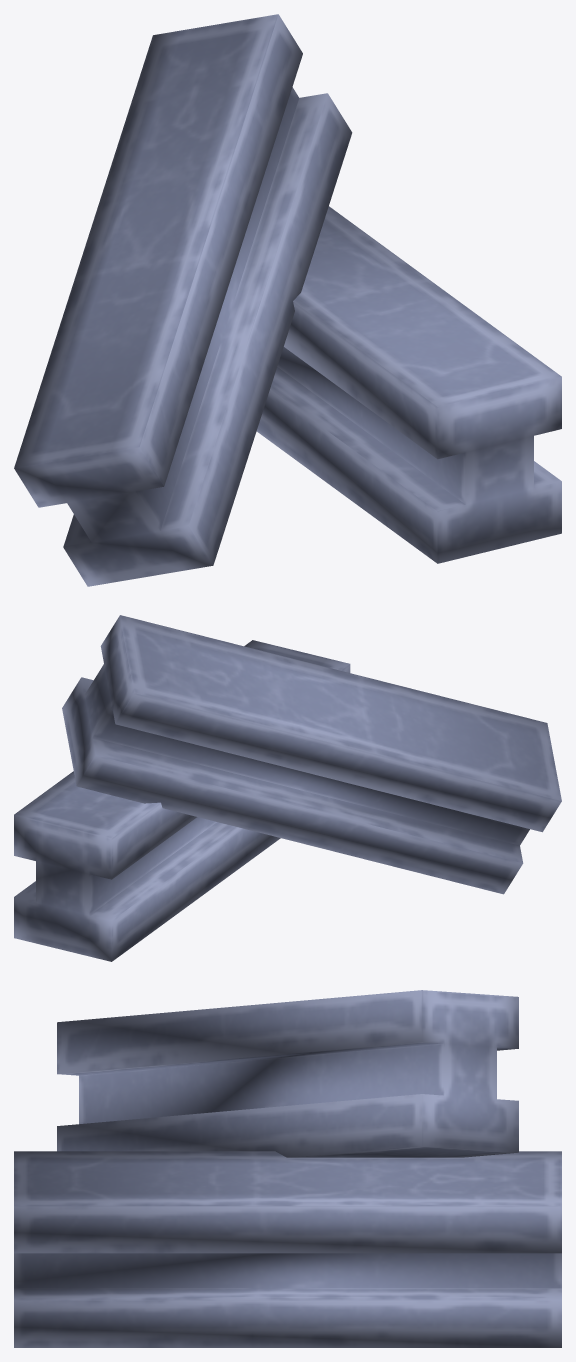
The model's file is Pickupchatarra.gltf.
The picture shows the model from 3 angles, top to bottom: view 1: azimuth 30°, elevation 25°; view 2: azimuth 150°, elevation 25°; view 3: azimuth 270°, elevation 25°; orthographic projection. The views are drawn at different scales.
Parts seen in each view (by area): view 1: Chatarra_low; view 2: Chatarra_low; view 3: Chatarra_low.
Part boxes in pixels (box(x1,y1,x2,y2)): Chatarra_low: box(14, 14, 561, 586); Chatarra_low: box(14, 615, 561, 961); Chatarra_low: box(14, 990, 561, 1347).
Bounding box in the file's own units: 0.8137 × 0.6087 × 0.878.
1 material, 1 textured.
